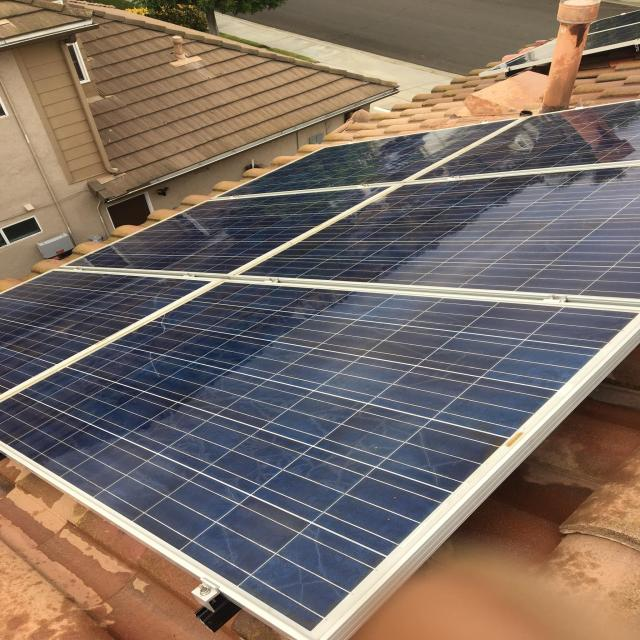clean-solar-panel: (0, 102, 640, 636)
